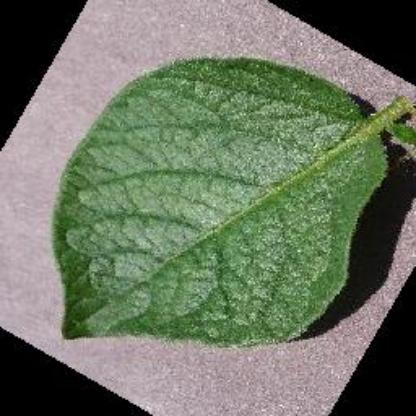Healthy-plant: (49, 49, 409, 354)
